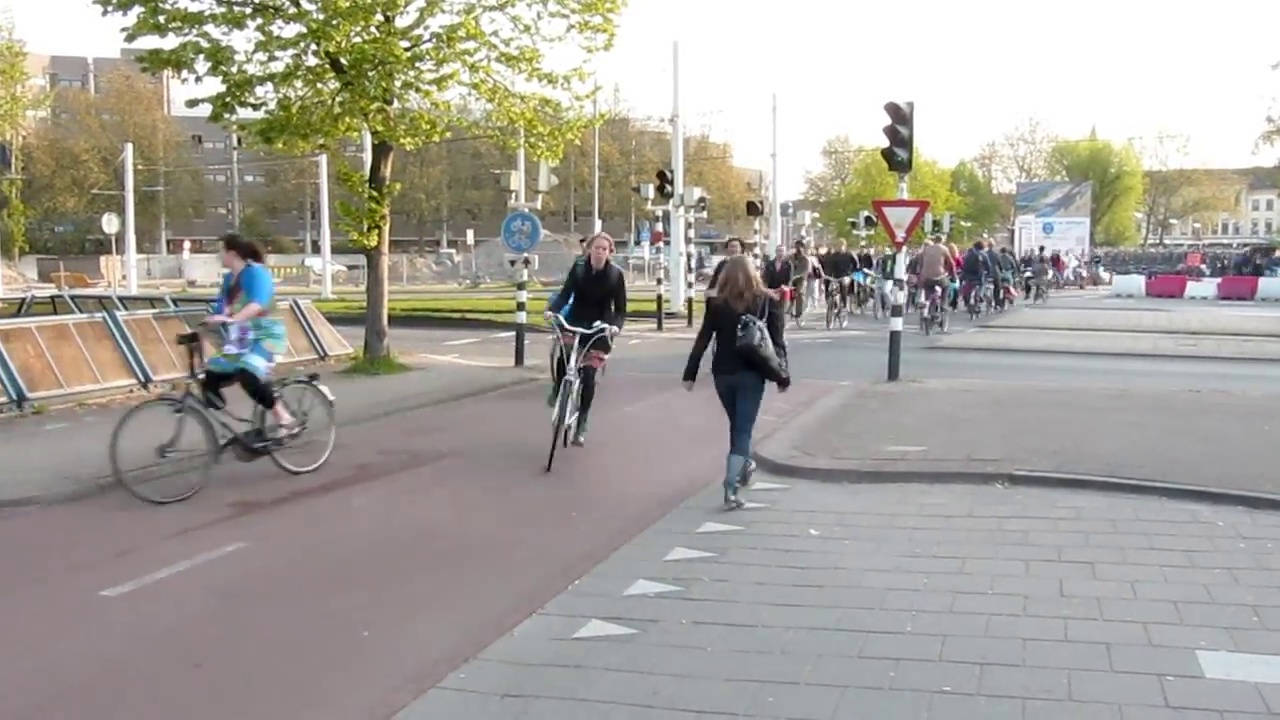cyclist_back: (918, 232, 953, 335), (960, 235, 985, 321)
cyclist_front: (540, 231, 630, 484), (819, 235, 854, 332)
cyclist_side: (107, 231, 354, 500)
